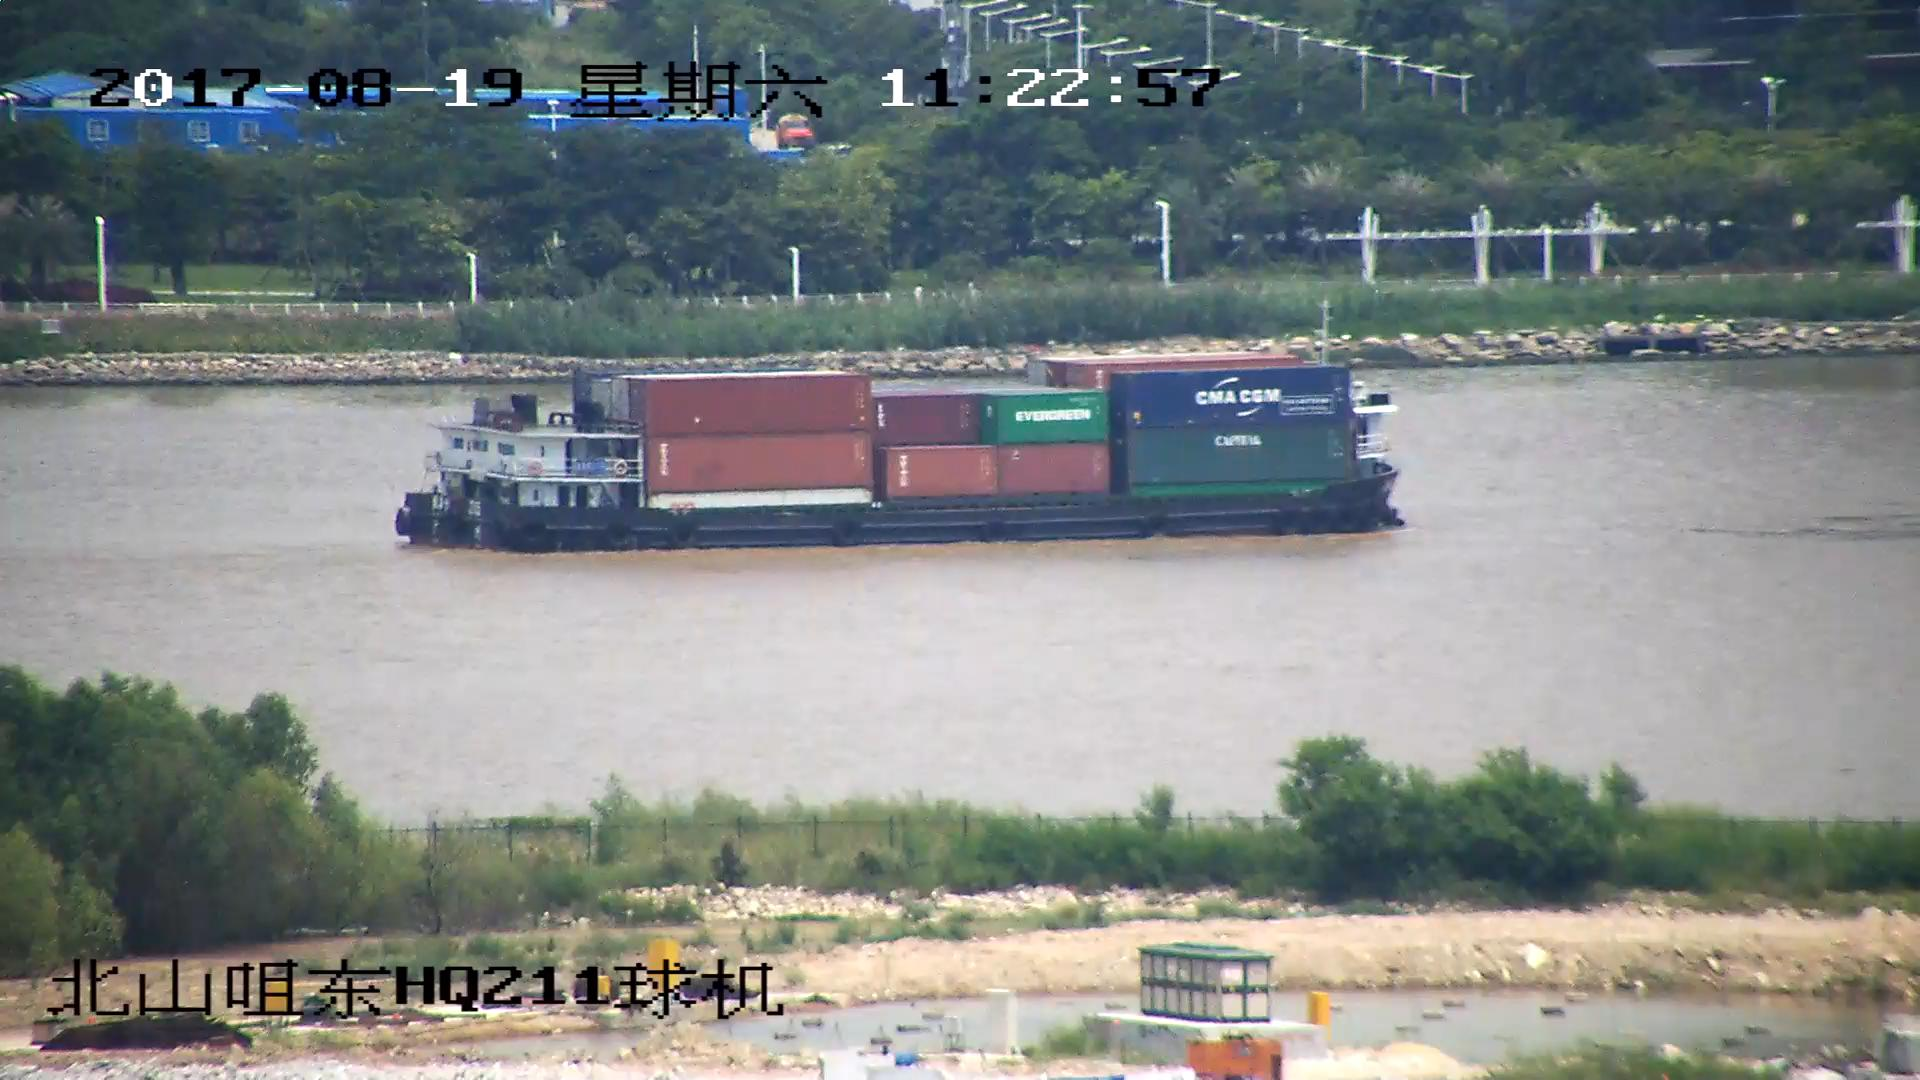container ship: (400, 350, 1400, 548)
